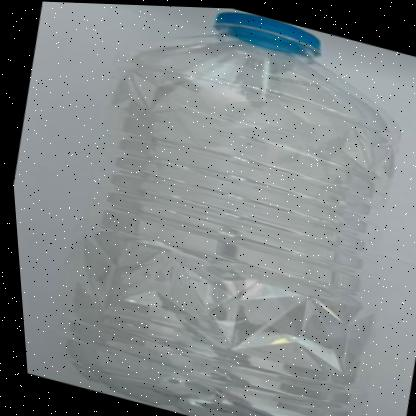bottle cap: (91, 3, 416, 161)
